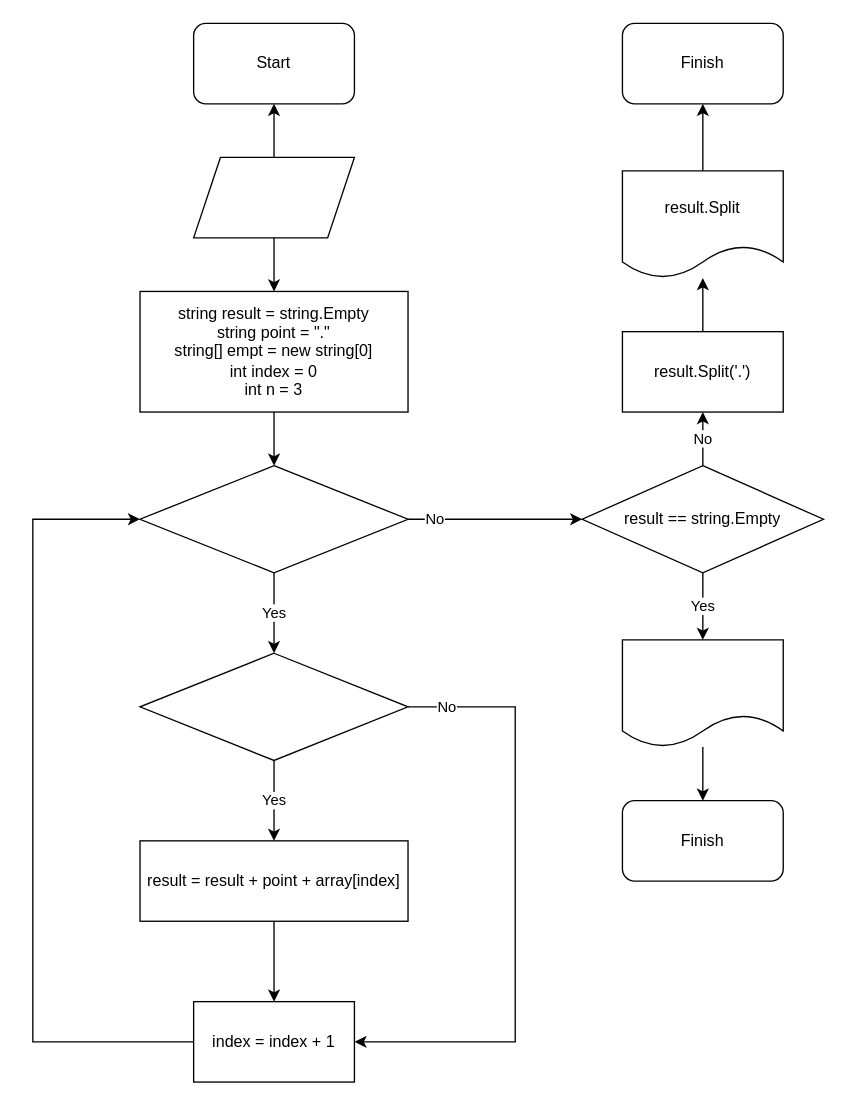
This 847x1106 diagram has some shape labels left out. The shapes that lost their labels are listed below. From the top down, each one's centre as x and y in pixels, then its label:
At [273,197]: "array[]".
At [273,518]: "index < array.Lenght".
At [273,706]: "array[index].Lenght <= n".
At [702,693]: "empt".
